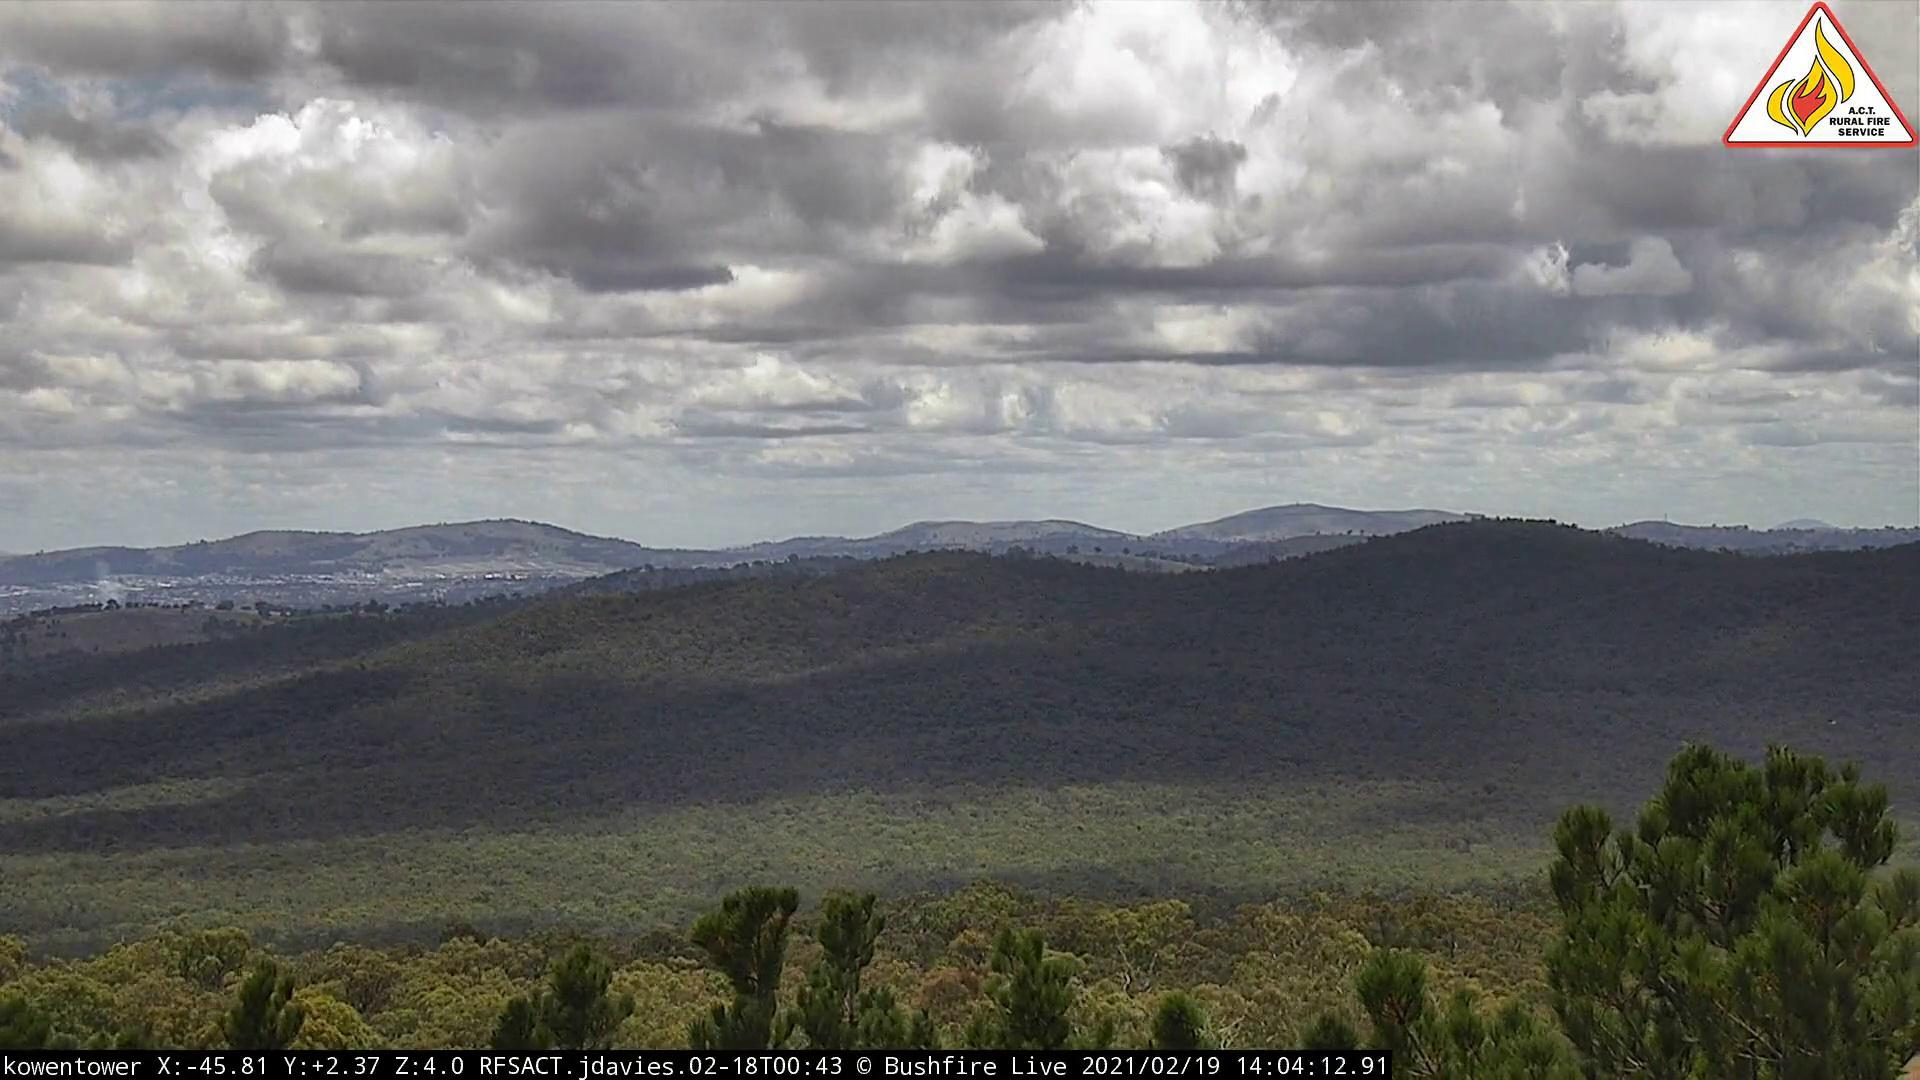Smoke: (95, 578, 132, 618)
